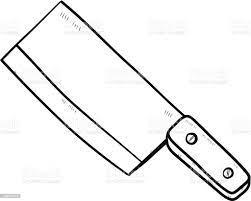knives: (2, 2, 249, 201)
